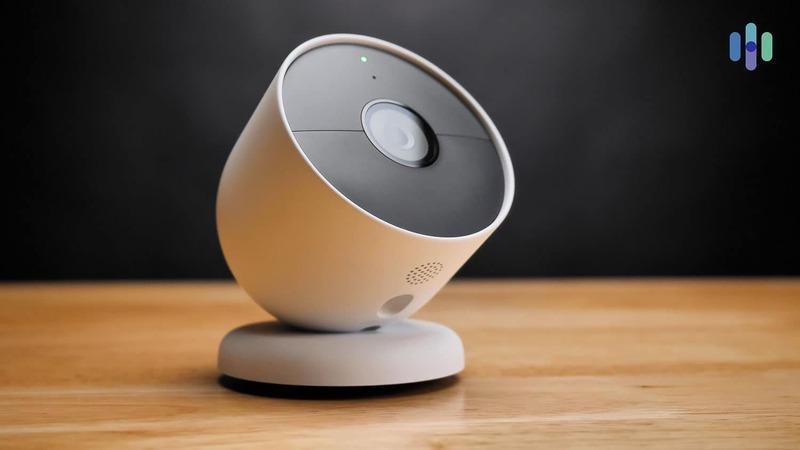nest: (186, 27, 527, 395)
